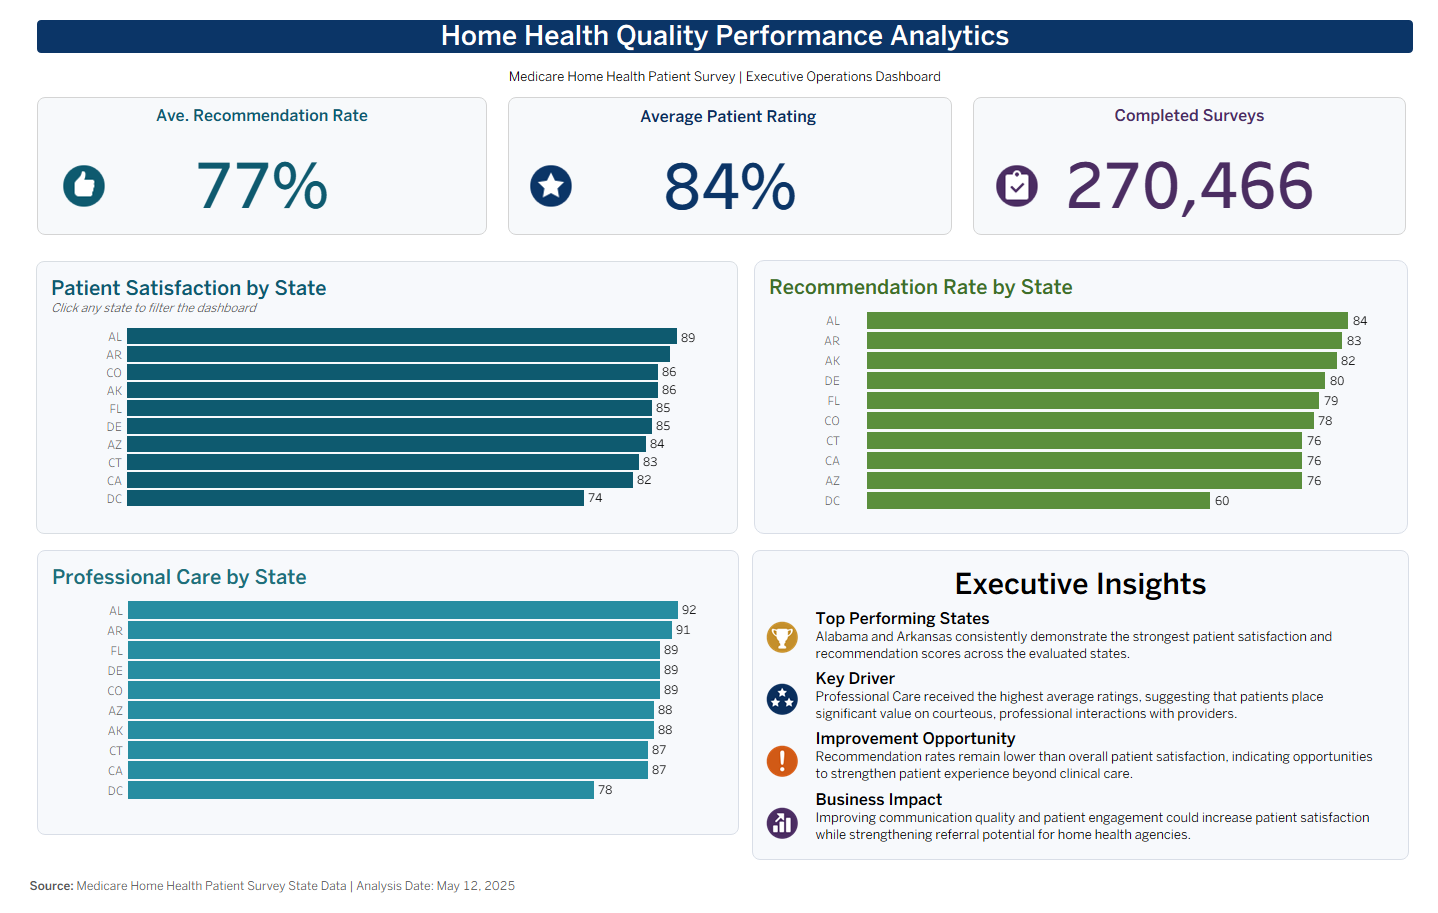

What the dashboard file says about the page in this screenshot:
{"tool":"tableau","page":{"name":"Executive Dashboard","canvas":[1400,900],"ordinal":0},"visuals":[{"type":"title","box":[8,8,1384,41]},{"type":"image","param":"C:/Users/angel/Downloads/icons8-out-patient-department-50.png","box":[361,15,27,27]},{"type":"text","box":[8,49,1384,32]},{"type":"image","param":"C:/Users/angel/Downloads/icons8-home-care-24.png","box":[8,81,1384,32]},{"type":"worksheet","title":"KPI - Avg Recommendation Rate","mark":"Automatic","box":[4,83,466,150]},{"type":"worksheet","title":"KPI - Avg Patient Rating","mark":"Automatic","box":[475,83,460,150]},{"type":"worksheet","title":"KPI - Completed Surveys","mark":"Automatic","box":[940,83,449,150]},{"type":"image","param":"C:/Users/angel/Downloads/icons8-thumbs-up-48.png","box":[34,153,50,50]},{"type":"image","param":"C:/Users/angel/Downloads/icons8-rating-circled-48.png","box":[501,153,50,50]},{"type":"image","param":"C:/Users/angel/Downloads/icons8-work-authorisation-48 (1).png","box":[967,153,50,50]},{"type":"worksheet","title":"Recommendation Rate by State","mark":"Bar","rows":["State Abbreviation"],"cols":["Patients Reported Yes To Recommend HHA To Friends And Family"],"box":[730,253,652,272]},{"type":"worksheet","title":"State Performance","mark":"Bar","rows":["State Abbreviation"],"cols":["Patients Who Gave 9 or 10 HHA Rating"],"box":[22,264,680,251]},{"type":"worksheet","title":"Professional Care by State","mark":"Bar","rows":["State Abbreviation"],"cols":["HHT Health Care Given in Professional Way"],"box":[23,553,680,263]},{"type":"text","box":[744,555,623,43]},{"type":"text","box":[744,598,623,60.2]},{"type":"image","param":"C:/Users/angel/Downloads/icons8-trophy-64 (1).png","box":[741,613,32,32]},{"type":"text","box":[744,658.2,623,60.2]},{"type":"image","param":"C:/Users/angel/Downloads/icons8-three-stars-64.png","box":[741,675,32,32]},{"type":"text","box":[744,718.5,623,60.2]},{"type":"image","param":"C:/Users/angel/Downloads/icons8-box-important-64 (1).png","box":[741,737,32,32]},{"type":"text","box":[744,778.7,623,60.3]},{"type":"image","param":"C:/Users/angel/Downloads/icons8-positive-dynamic-64.png","box":[741,799,32,32]}]}

Visuals, with their boxes in screenshot pixels (x1, y1, x2, y2), scaled from the page's 1400x900 canvas onto the 1438x913 screenshot:
title: [x1=8, y1=8, x2=1430, y2=50]
image: [x1=371, y1=15, x2=399, y2=43]
text: [x1=8, y1=50, x2=1430, y2=82]
image: [x1=8, y1=82, x2=1430, y2=115]
"KPI - Avg Recommendation Rate" worksheet: [x1=4, y1=84, x2=483, y2=236]
"KPI - Avg Patient Rating" worksheet: [x1=488, y1=84, x2=960, y2=236]
"KPI - Completed Surveys" worksheet: [x1=966, y1=84, x2=1427, y2=236]
image: [x1=35, y1=155, x2=86, y2=206]
image: [x1=515, y1=155, x2=566, y2=206]
image: [x1=993, y1=155, x2=1045, y2=206]
"Recommendation Rate by State" worksheet (Bar marks): [x1=750, y1=257, x2=1420, y2=533]
"State Performance" worksheet (Bar marks): [x1=23, y1=268, x2=721, y2=522]
"Professional Care by State" worksheet (Bar marks): [x1=24, y1=561, x2=722, y2=828]
text: [x1=764, y1=563, x2=1404, y2=607]
text: [x1=764, y1=607, x2=1404, y2=668]
image: [x1=761, y1=622, x2=794, y2=654]
text: [x1=764, y1=668, x2=1404, y2=729]
image: [x1=761, y1=685, x2=794, y2=717]
text: [x1=764, y1=729, x2=1404, y2=790]
image: [x1=761, y1=748, x2=794, y2=780]
text: [x1=764, y1=790, x2=1404, y2=851]
image: [x1=761, y1=811, x2=794, y2=843]
